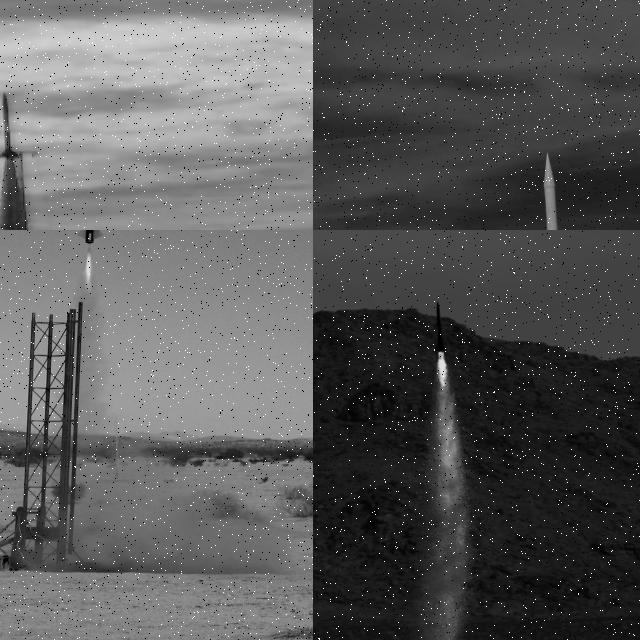Rocket: (537, 152, 569, 230), (0, 93, 18, 159), (432, 300, 447, 353)
